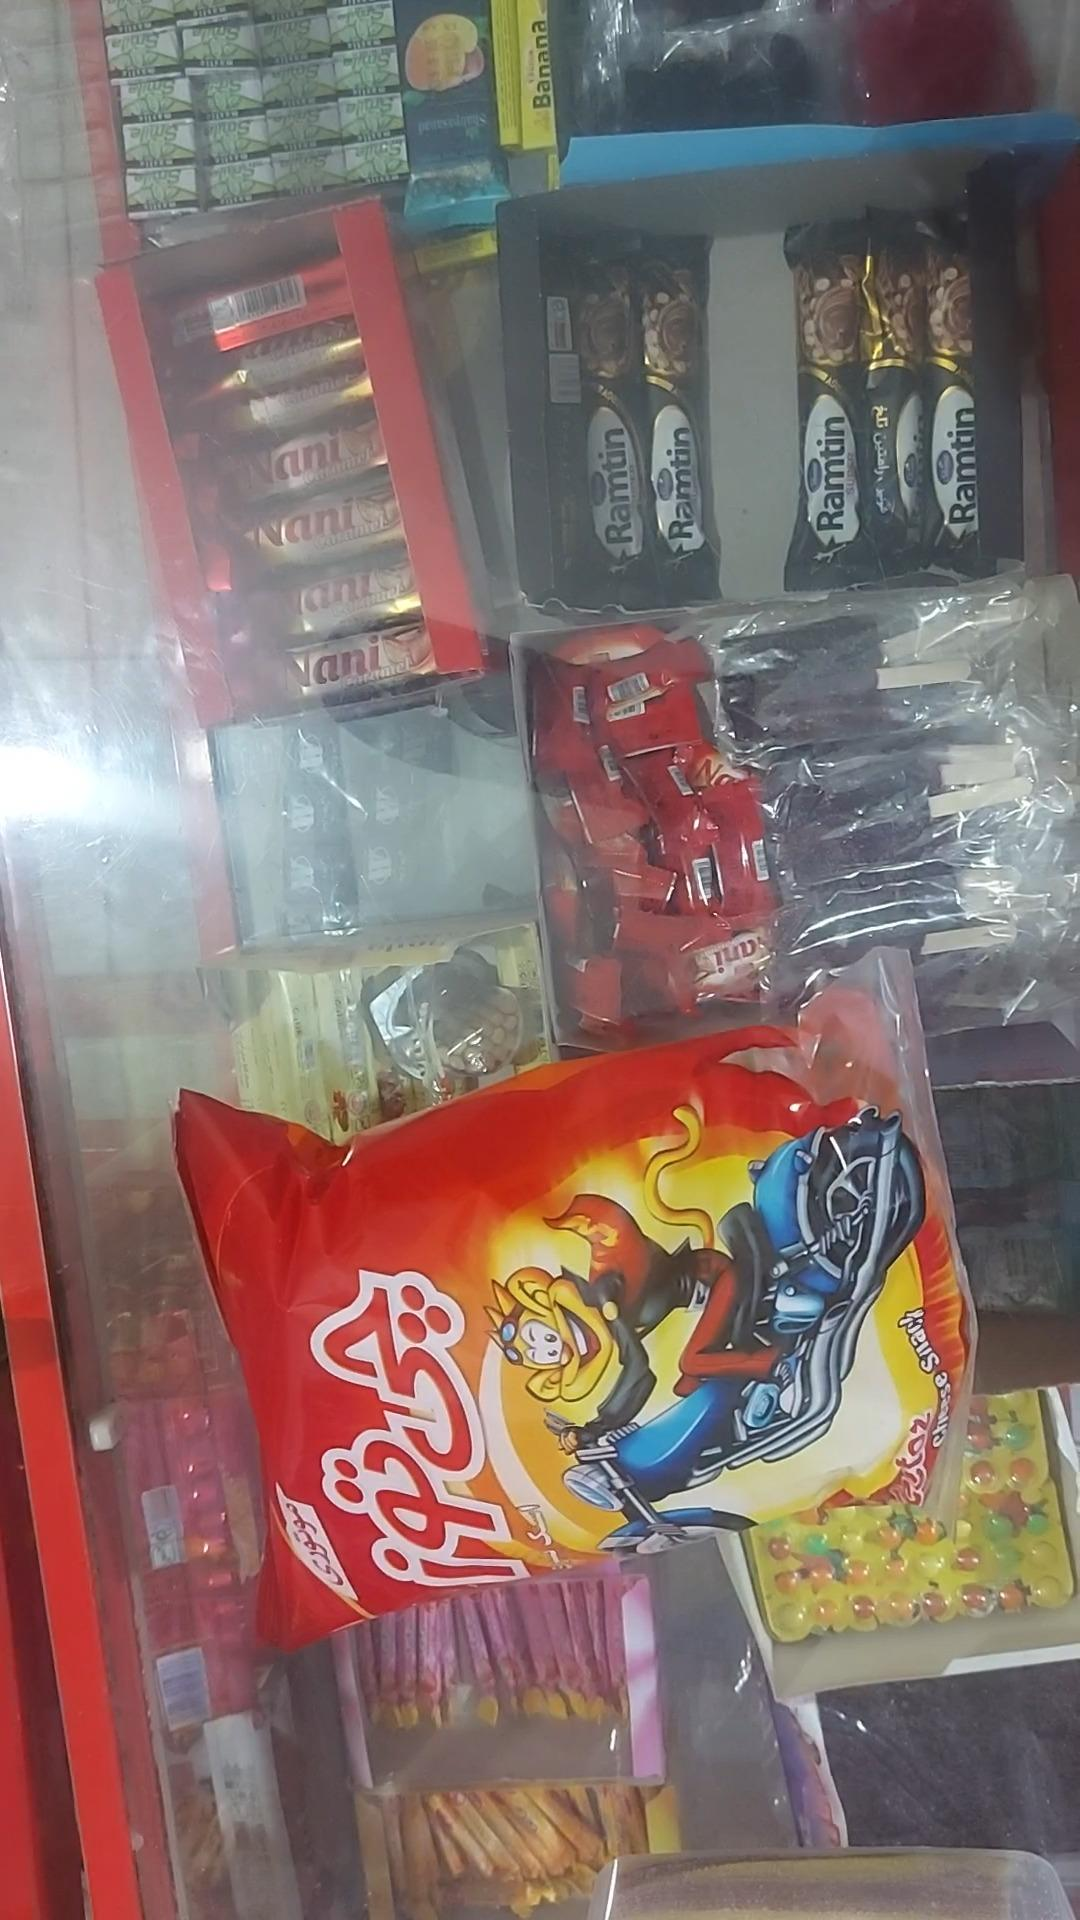Cheetoz snack 90g: (171, 960, 972, 1655)
